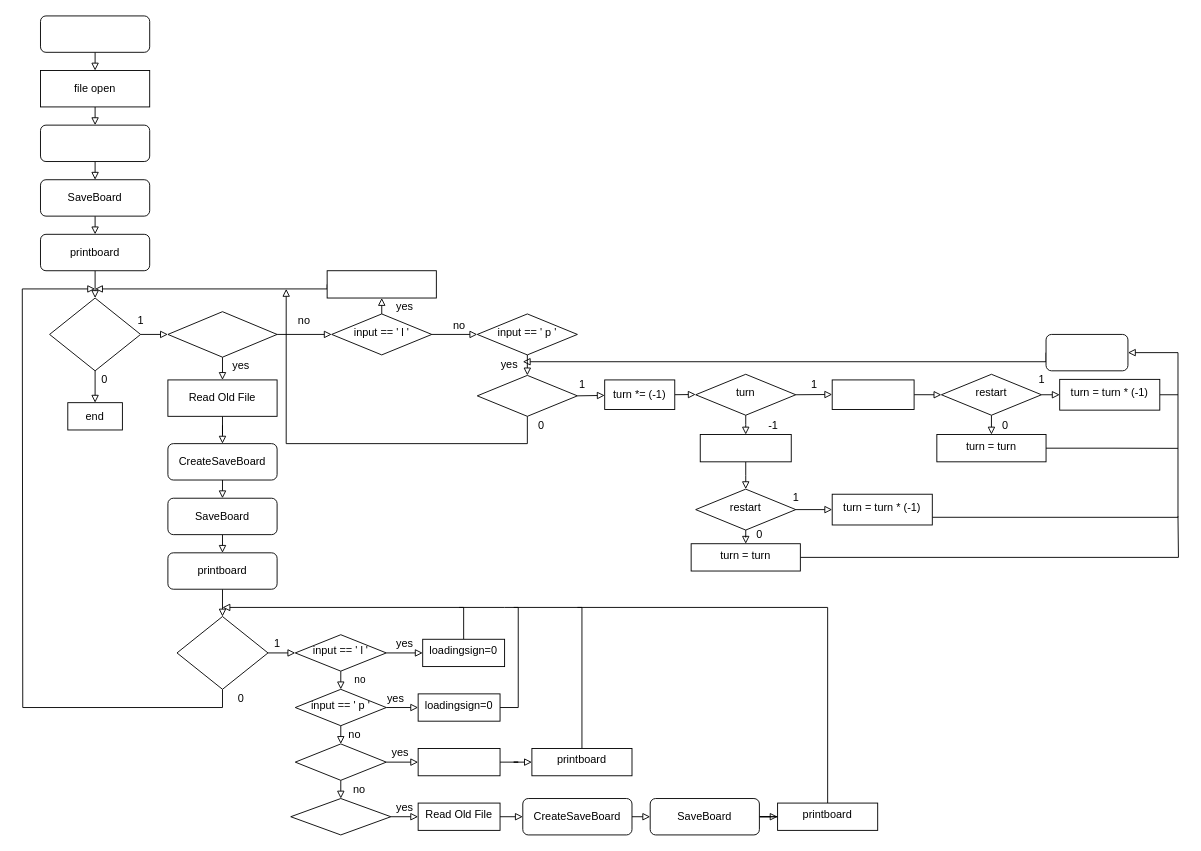
Some shapes in this 1201 by 851 pixel diagram are drawn without their labels. Each missing label, with the box of its shape:
blueMove(fptr): (699, 434, 791, 462)
boardbuilding: (40, 124, 150, 162)
chessSign: (49, 297, 141, 371)
chessSign = 0: (326, 270, 436, 298)
GameOverSign: (476, 374, 577, 416)
input == ' b ': (294, 743, 386, 780)
input == ' f ': (290, 798, 391, 835)
input == ' r ': (167, 311, 277, 357)
is_Gameover: (1045, 334, 1128, 371)
list = Back(list,turn): (417, 748, 500, 776)
loadingsign: (176, 616, 268, 689)
main: (40, 15, 150, 52)
redMove(fptr): (831, 379, 914, 410)
